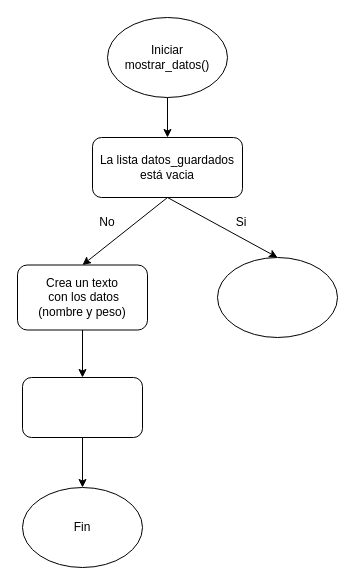
The diagram is 355 pixels wide and 585 high, and some of its shapes have lost their labels. Here are the shapes that lost their labels. From the top down, the box of each, then its label:
(216, 256, 338, 338): Fin "No hay datos guardados"
(22, 376, 142, 438): Muestra el texto completo en lista_datos
